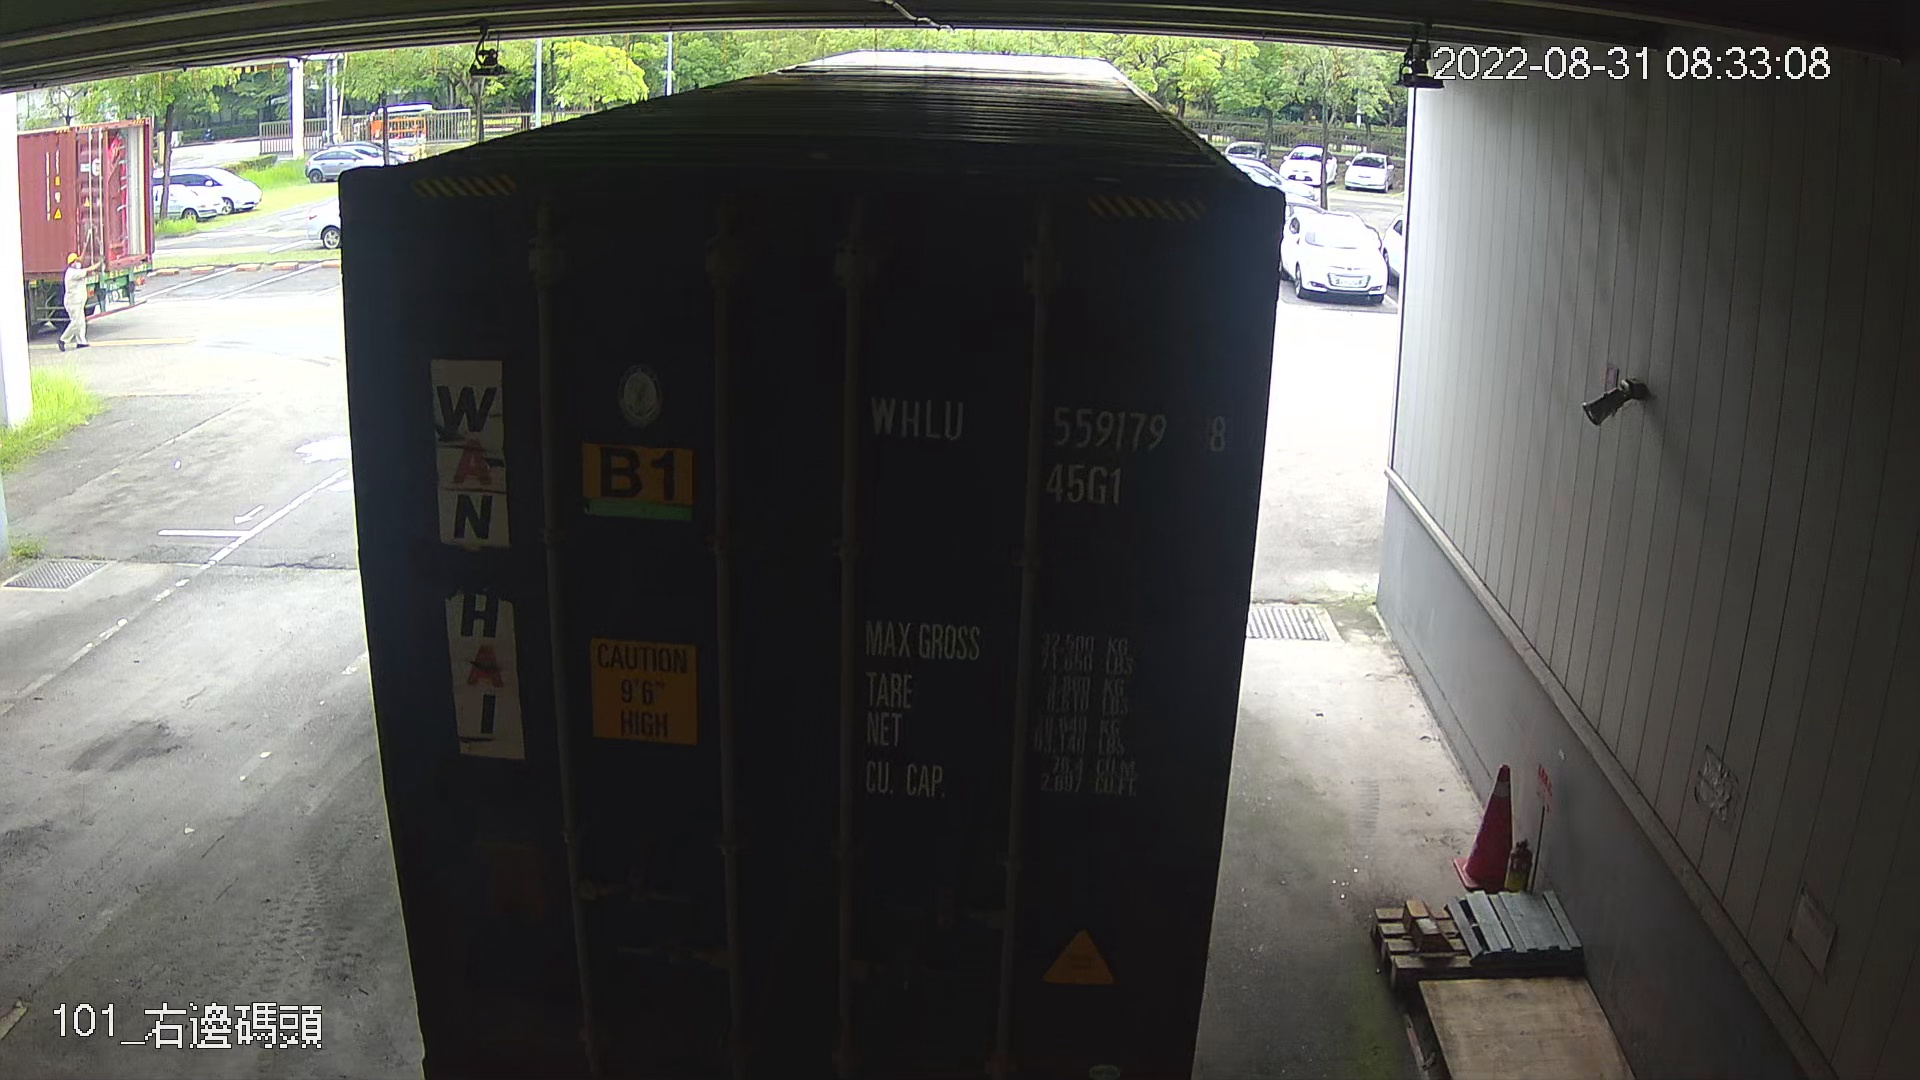container: (858, 367, 1240, 516)
